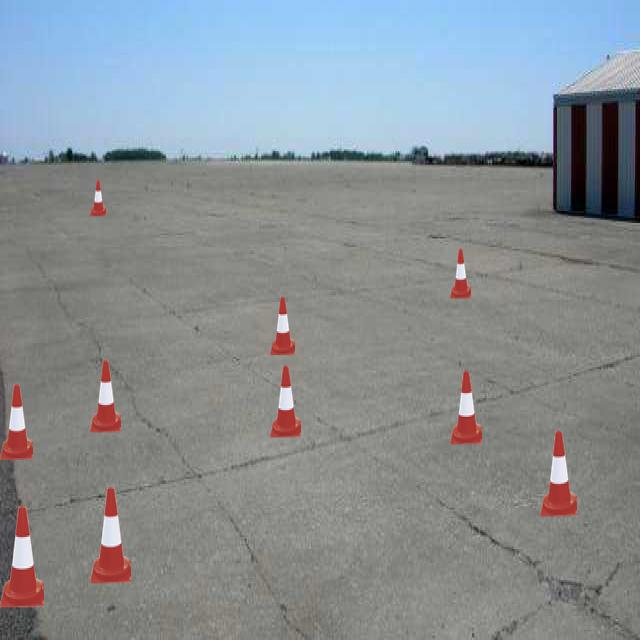orange_cone: (0, 507, 44, 608), (90, 488, 131, 584), (540, 431, 577, 516), (0, 384, 33, 460), (450, 370, 482, 444), (270, 366, 301, 438), (90, 360, 121, 432), (270, 297, 295, 355), (450, 248, 471, 298), (90, 180, 106, 216)
